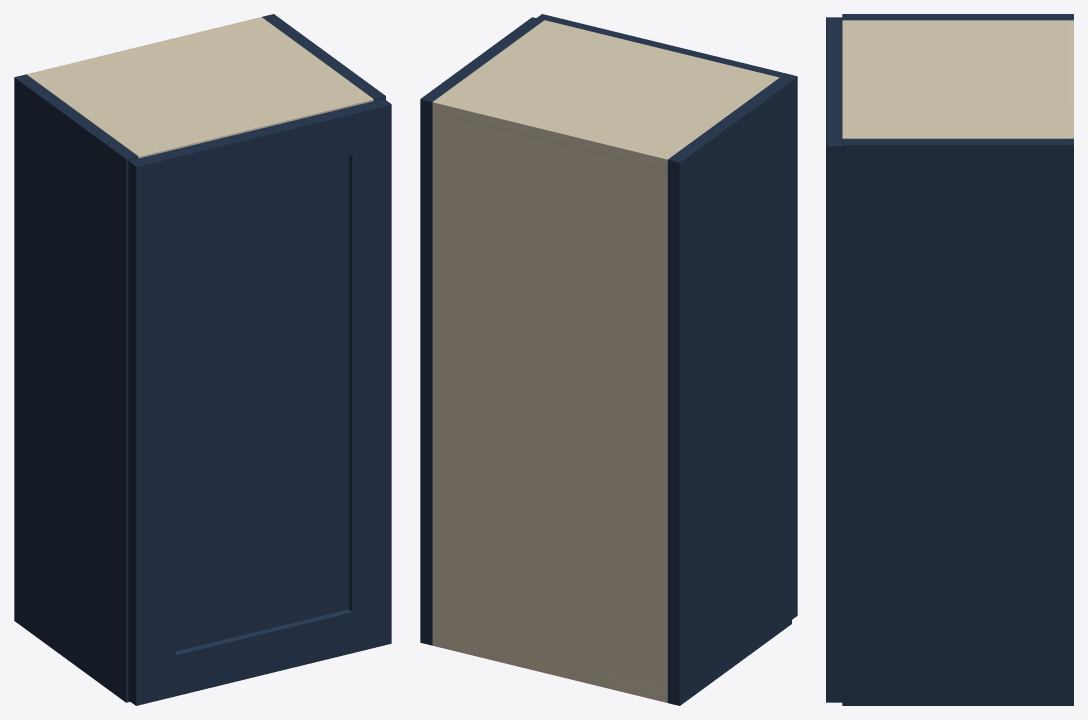
File: oppein-ply-bss-w1530.glb
The picture shows the model from 3 angles, left to right: view 1: azimuth 30°, elevation 25°; view 2: azimuth 150°, elevation 25°; view 3: azimuth 270°, elevation 25°; orthographic projection. The views are drawn at different scales.
Visible parts, largest first — view 1: Door, Cabinet side, Cabinet top, Cabinet side.001, Cabinet back; view 2: Cabinet back, Cabinet side, Cabinet top, Cabinet side.001, Door, Cabinet bottom; view 3: Cabinet side.001, Cabinet top, Door, Cabinet side, Cabinet back.
Boxes of the visible parts, x1,y1,x2,y2 form: Door: (128,98,391,705); Cabinet side: (14,74,138,702); Cabinet top: (27,20,373,158); Cabinet side.001: (262,14,385,100); Cabinet back: (27,17,264,77); Cabinet back: (432,99,670,702); Cabinet side: (667,77,791,705); Cabinet top: (432,20,779,171); Cabinet side.001: (420,17,543,645); Door: (537,14,797,619); Cabinet bottom: (433,644,667,702); Cabinet side.001: (842,138,1073,705); Cabinet top: (842,20,1073,138); Door: (826,17,842,702); Cabinet side: (842,14,1073,20); Cabinet back: (1064,20,1073,138).
Bounding box in the file's own units: 0.381 × 0.762 × 0.3048.
